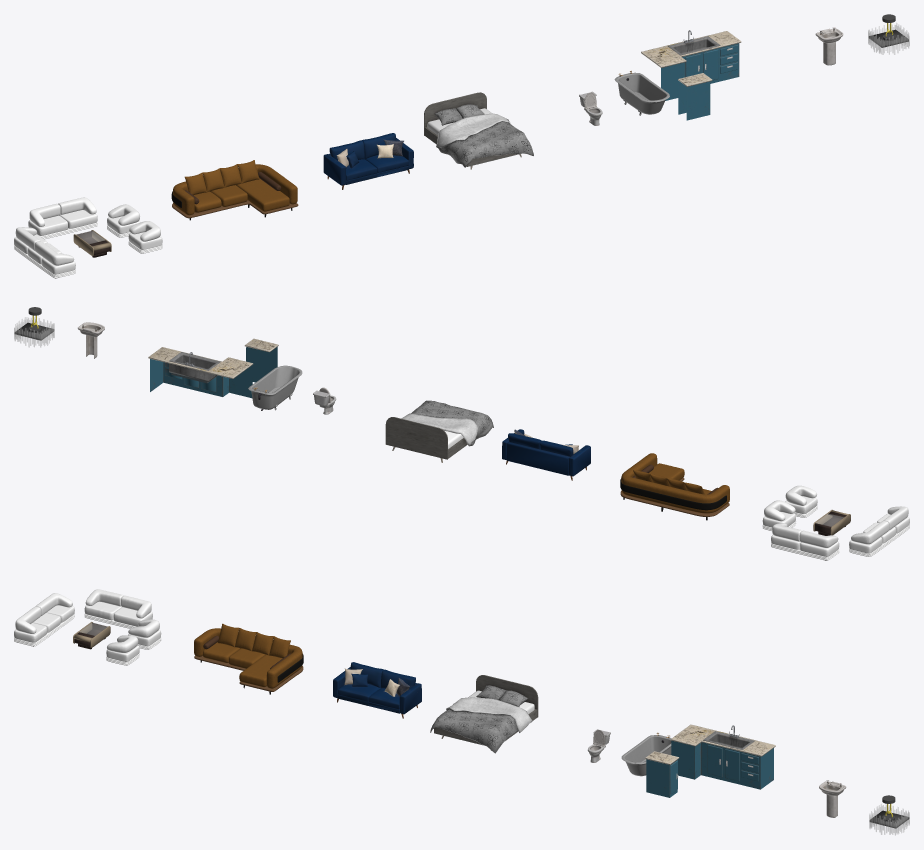
The model's file is items.v1.glb.
3 renders of one model, top to bottom at view 1: azimuth 30°, elevation 25°; view 2: azimuth 150°, elevation 25°; view 3: azimuth 330°, elevation 25°, orthographic.
Visible parts, largest first — view 1: sofa_set_mesh, double_bed_mesh, kitchen_counter_mesh, corner_sofa_mesh, sofa_mesh, bathtub_mesh, chandelier_mesh, sink_mesh; view 2: sofa_set_mesh, kitchen_counter_mesh, double_bed_mesh, corner_sofa_mesh, sofa_mesh, bathtub_mesh, chandelier_mesh, sink_mesh; view 3: kitchen_counter_mesh, sofa_set_mesh, double_bed_mesh, corner_sofa_mesh, sofa_mesh, bathtub_mesh, chandelier_mesh, sink_mesh.
Part boxes in pixels (bbox=[...]): sofa_set_mesh: bbox=[14, 197, 162, 278]; double_bed_mesh: bbox=[424, 92, 533, 169]; kitchen_counter_mesh: bbox=[641, 30, 741, 120]; corner_sofa_mesh: bbox=[171, 160, 298, 220]; sofa_mesh: bbox=[323, 133, 413, 189]; bathtub_mesh: bbox=[614, 70, 669, 115]; chandelier_mesh: bbox=[868, 14, 909, 54]; sink_mesh: bbox=[815, 27, 843, 65]; sofa_set_mesh: bbox=[762, 485, 909, 560]; kitchen_counter_mesh: bbox=[148, 338, 278, 398]; double_bed_mesh: bbox=[385, 400, 493, 462]; corner_sofa_mesh: bbox=[620, 453, 729, 520]; sofa_mesh: bbox=[502, 429, 590, 480]; bathtub_mesh: bbox=[248, 365, 302, 410]; chandelier_mesh: bbox=[14, 307, 54, 347]; sink_mesh: bbox=[77, 322, 104, 358]; kitchen_counter_mesh: bbox=[645, 724, 775, 797]; sofa_set_mesh: bbox=[14, 589, 161, 665]; double_bed_mesh: bbox=[430, 675, 538, 753]; corner_sofa_mesh: bbox=[194, 623, 303, 694]; sofa_mesh: bbox=[333, 662, 421, 718]; bathtub_mesh: bbox=[621, 732, 671, 776]; chandelier_mesh: bbox=[869, 795, 909, 835]; sink_mesh: bbox=[819, 780, 846, 817].
Size of the model in its own units: 23.86 by 1.25 by 2.65.
21 materials, 14 textured.
